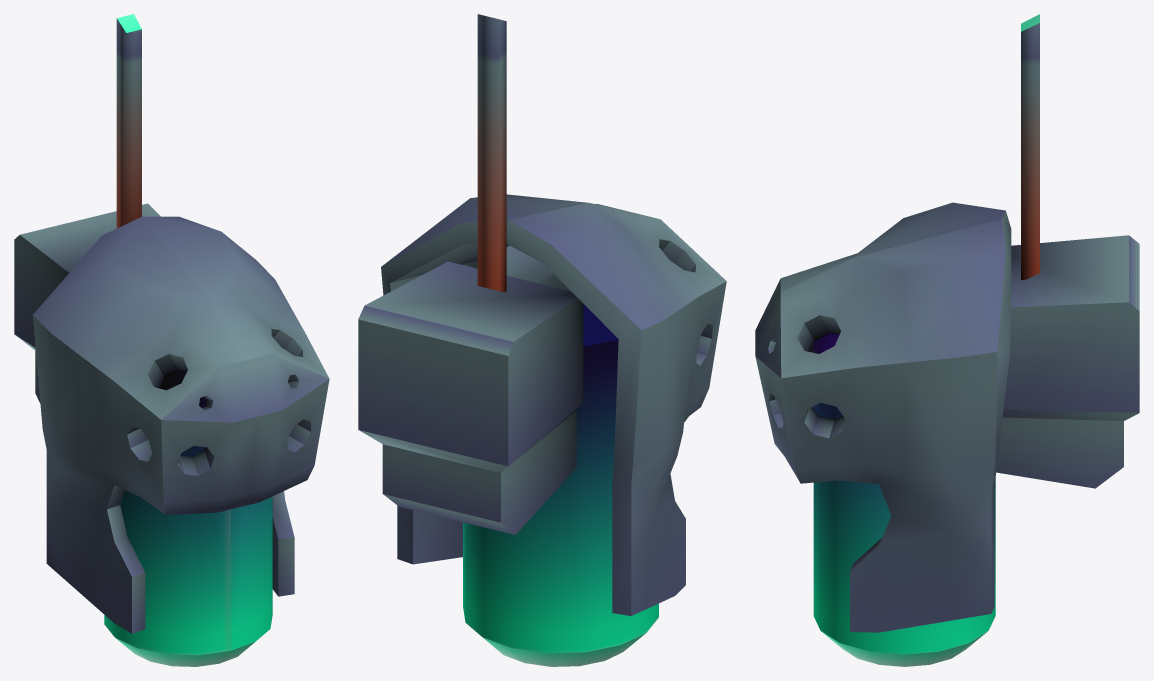
File: nade.glb
3 renders of one model, left to right at view 1: azimuth 30°, elevation 25°; view 2: azimuth 150°, elevation 25°; view 3: azimuth 270°, elevation 25°, orthographic. The views are drawn at different scales.
Parts seen in each view (by area): view 1: Cylinder1; view 2: Cylinder1; view 3: Cylinder1.
Boxes of the visible parts, box(x1,y1,x2,y2) form: Cylinder1: box(14, 14, 329, 666); Cylinder1: box(358, 14, 726, 666); Cylinder1: box(755, 14, 1139, 666).
Size of the model in its own units: 3.05 by 7.52 by 4.22.
Materials: 1 (1 with a texture image).
